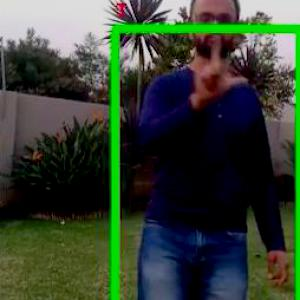land_hand: (190, 15, 253, 104)
